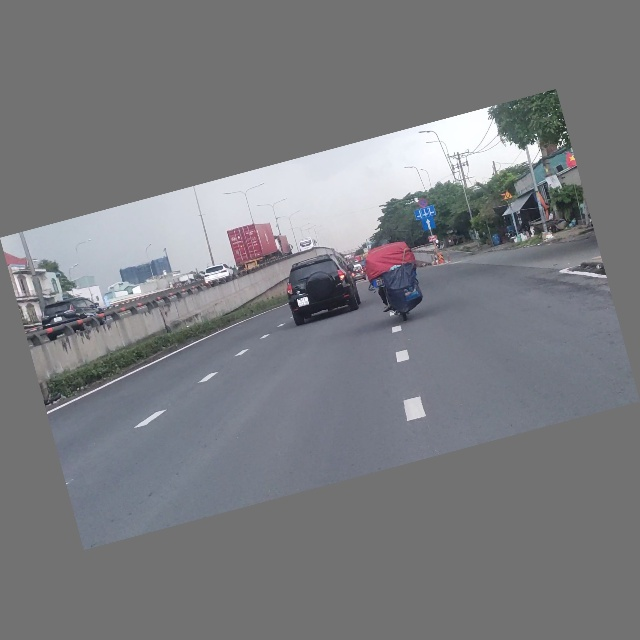I.407a: (421, 216, 437, 232)
P.130: (416, 197, 430, 209)
W.246a: (502, 190, 513, 201)
